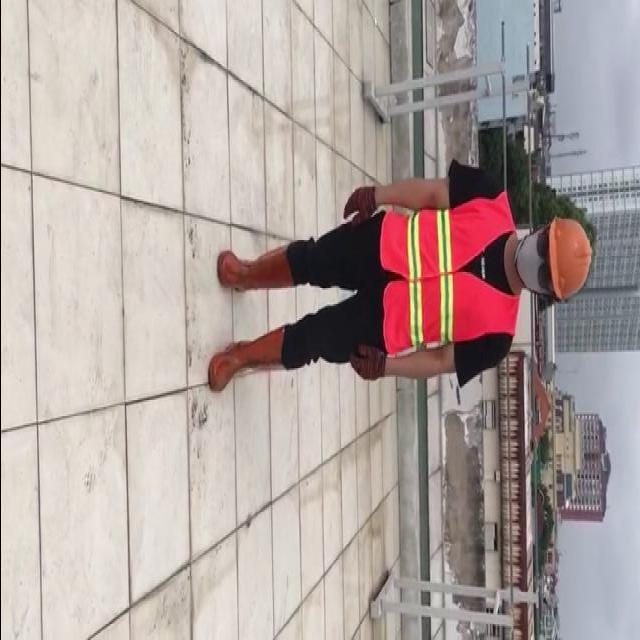boots: (205, 322, 287, 392), (216, 245, 291, 290)
helmet: (206, 174, 600, 408), (548, 210, 592, 306)
vest: (379, 194, 517, 350)
